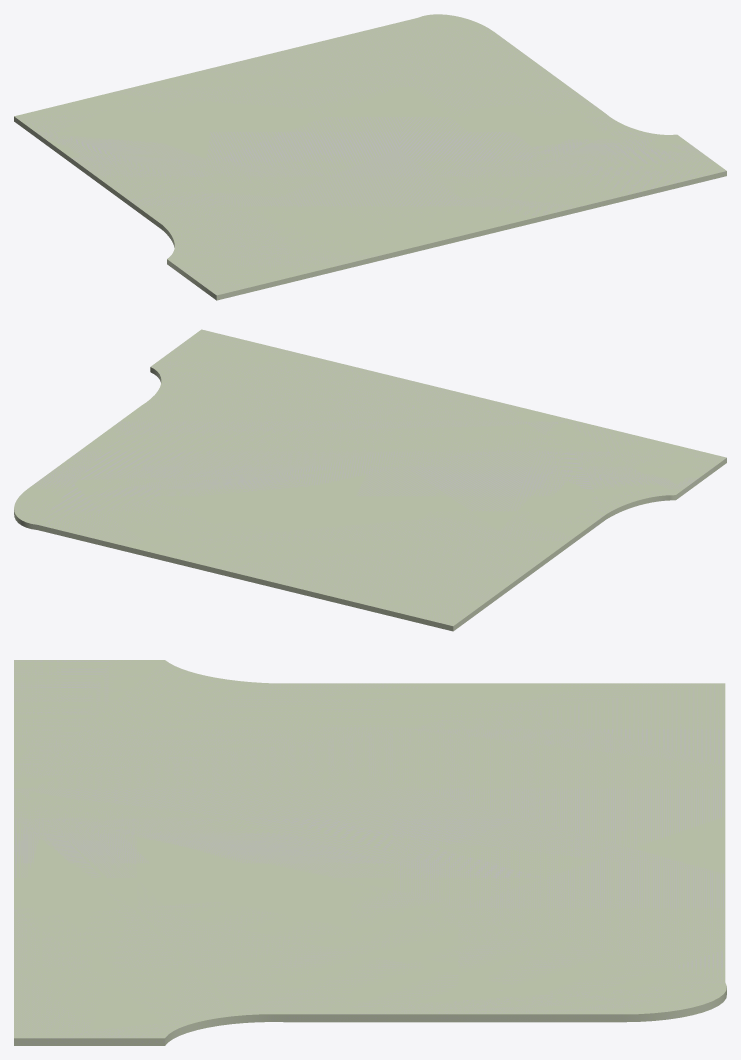
The model's file is original-56.obj.
3 views of the same model, one above another, from view 1: azimuth 30°, elevation 25°; view 2: azimuth 150°, elevation 25°; view 3: azimuth 270°, elevation 25° (orthographic). The views are drawn at different scales.
Visible parts, largest first — view 1: Componente_3_41/Componente_3/mesh11/mesh11-geometry#mesh11-geome; view 2: Componente_3_41/Componente_3/mesh11/mesh11-geometry#mesh11-geome; view 3: Componente_3_41/Componente_3/mesh11/mesh11-geometry#mesh11-geome.
Part boxes in pixels (x1,y1,x2,y2): Componente_3_41/Componente_3/mesh11/mesh11-geometry#mesh11-geome: [14, 14, 726, 300]; Componente_3_41/Componente_3/mesh11/mesh11-geometry#mesh11-geome: [14, 329, 726, 631]; Componente_3_41/Componente_3/mesh11/mesh11-geometry#mesh11-geome: [14, 660, 726, 1045].
Bounding box in the file's own units: 0.078 × 0.000748 × 0.0621.
